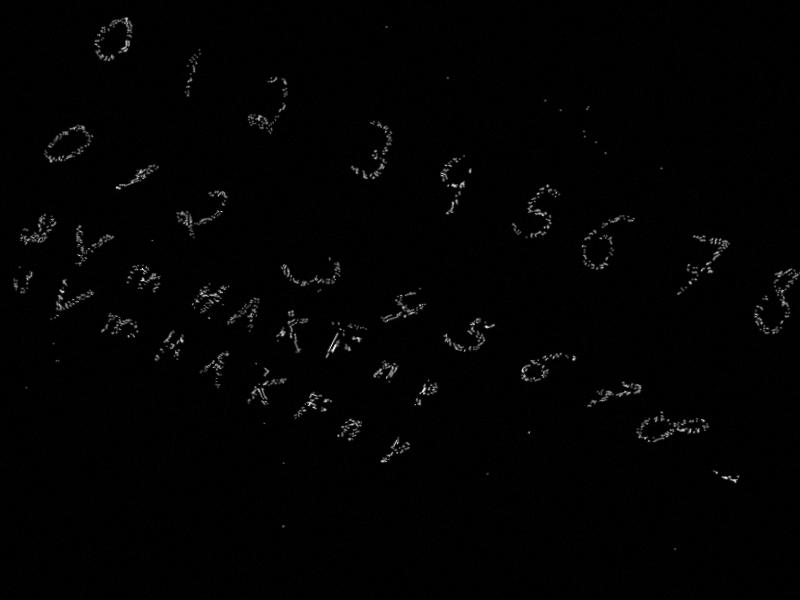0: (38, 111, 102, 177), (86, 7, 143, 70)
1: (106, 146, 165, 204), (167, 41, 212, 100)
2: (239, 67, 303, 142), (165, 178, 233, 248)
3: (340, 113, 407, 188), (273, 237, 350, 302)
4: (417, 146, 485, 223), (373, 276, 437, 337)
5: (502, 174, 573, 251), (436, 305, 500, 362)
6: (565, 198, 642, 282), (512, 336, 580, 400)
7: (653, 220, 737, 310), (579, 365, 647, 427)
8: (625, 384, 720, 467), (735, 253, 800, 348)
9: (702, 425, 757, 491)
A: (225, 289, 268, 337), (195, 343, 237, 392)
F: (289, 386, 336, 434), (319, 323, 365, 372)
H: (187, 273, 232, 322), (152, 325, 190, 370)
V: (40, 274, 98, 335), (58, 219, 117, 276)
k: (267, 305, 319, 358), (242, 362, 292, 416)
m: (117, 258, 168, 302), (96, 308, 145, 350)
n: (369, 354, 403, 390), (331, 412, 365, 447)
p: (376, 431, 414, 474), (408, 375, 443, 415)
u: (7, 202, 64, 260), (3, 260, 41, 300)
